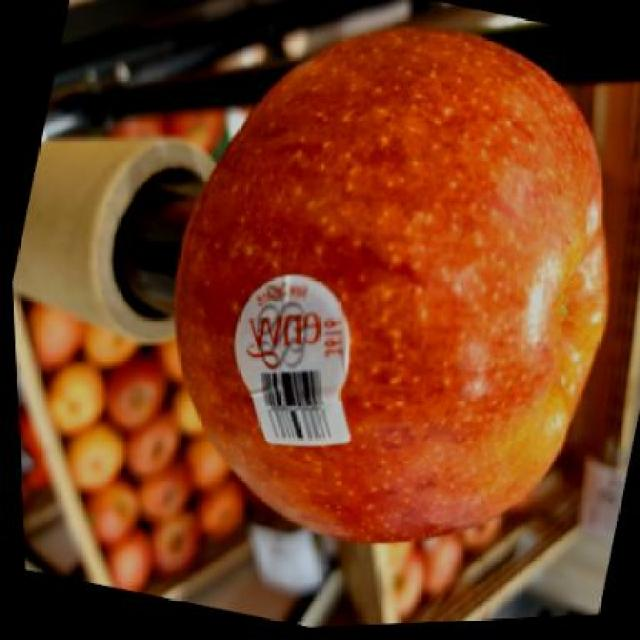Fresh Apple: (173, 28, 610, 538)
